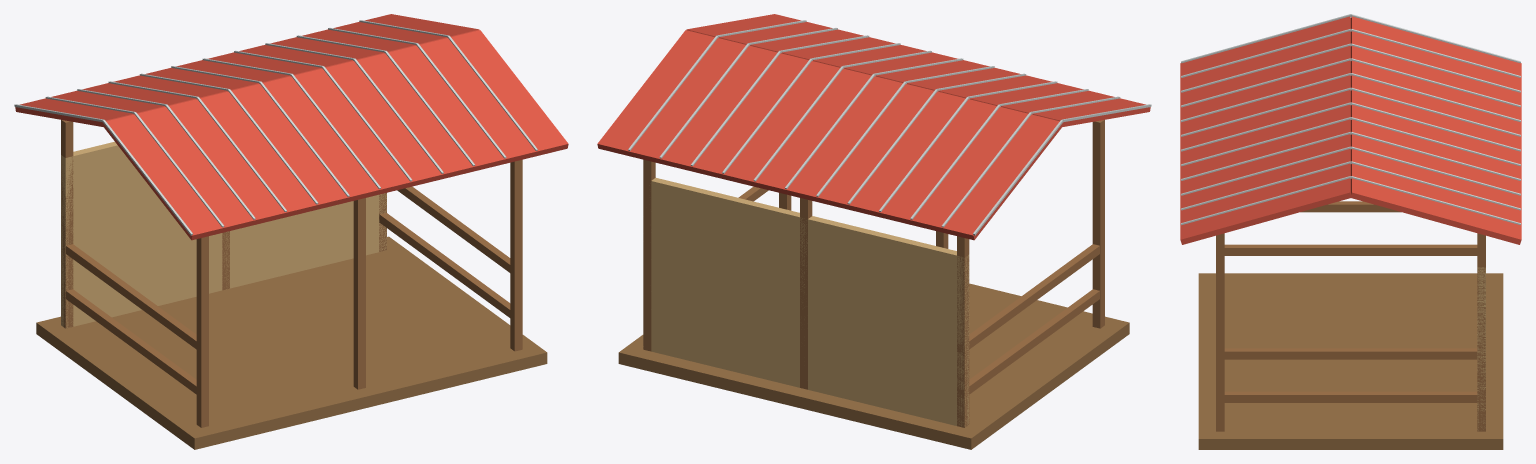
The model's file is TR3_Barn_Animal_Shelter.glb.
The picture shows the model from 3 angles, left to right: view 1: azimuth 30°, elevation 25°; view 2: azimuth 150°, elevation 25°; view 3: azimuth 270°, elevation 25°; orthographic projection. The views are drawn at different scales.
Visible parts, largest first — view 1: TR3_Barn_Animal_Shelter; view 2: TR3_Barn_Animal_Shelter; view 3: TR3_Barn_Animal_Shelter.
Part boxes in pixels (x1=…): TR3_Barn_Animal_Shelter: x1=14, y1=14, x2=568, y2=449; TR3_Barn_Animal_Shelter: x1=597, y1=14, x2=1151, y2=449; TR3_Barn_Animal_Shelter: x1=1180, y1=14, x2=1521, y2=449.
Size of the model in its own units: 4.81 by 3.35 by 3.92.
